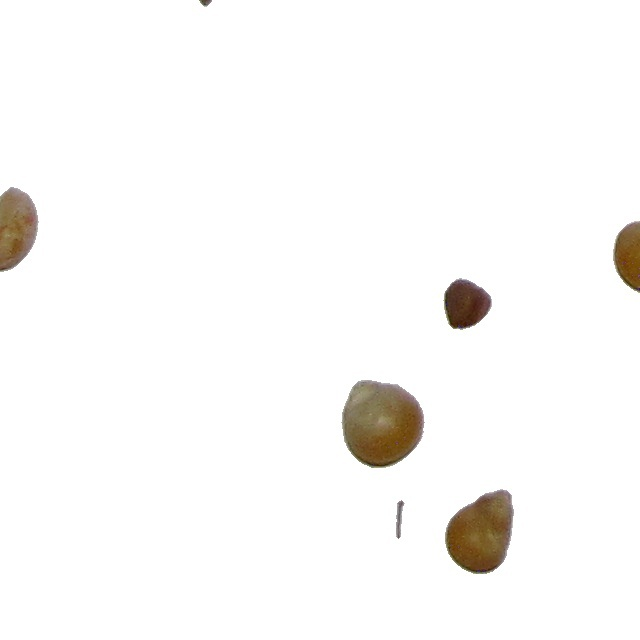buckwheat: (445, 277, 496, 331)
dill: (395, 499, 406, 540)
mais: (340, 379, 426, 469), (444, 488, 515, 575), (612, 205, 640, 297)
